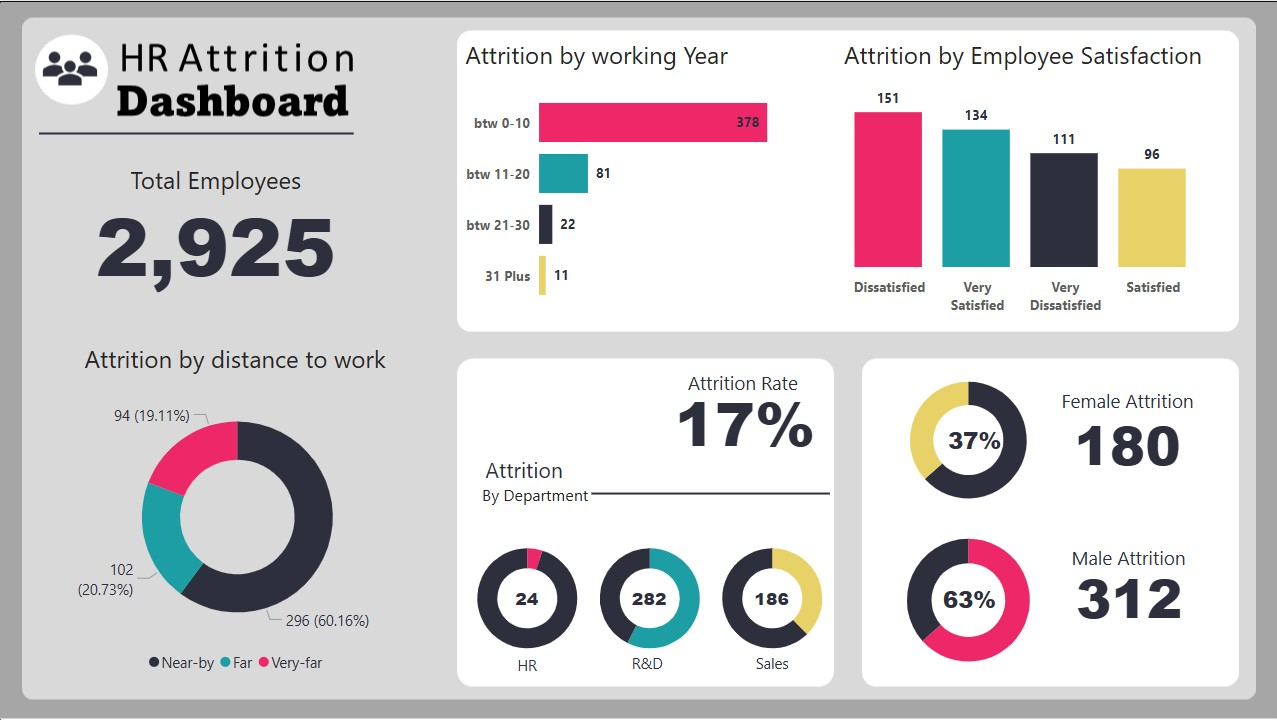

The dashboard page shown, as its layout file describes it:
{"tool":"powerbi","page":{"name":"Page 1","canvas":[1280,720],"ordinal":0},"visuals":[{"type":"card","fields":{"Values":["All Measures.Total Empoyees"]},"box":[83.7,182.7,266.4,114.2],"z":0},{"type":"donutChart","fields":{"Category":["Data.Distance Status"],"Y":["All Measures.Total Attrition"]},"box":[40.6,383.1,397.1,298.1],"z":1000},{"type":"barChart","fields":{"Y":["All Measures.Total Attrition"],"Category":["Data.Working Years Group"]},"box":[461.8,68.5,341.2,252.4],"z":2000},{"type":"columnChart","fields":{"Y":["All Measures.Total Attrition"],"Category":["Data.Job Satisfaction Status"]},"box":[803,68.5,427.5,252.4],"z":3000},{"type":"card","fields":{"Values":["All Measures.% Attrition"]},"box":[660.9,375.5,170,88.8],"z":4000},{"type":"donutChart","fields":{"Y":["All Measures.HR Department","All Measures.Remain HR"]},"box":[449.6,530.3,157,135],"z":5000},{"type":"donutChart","fields":{"Y":["All Measures.R&D Department","All Measures.Remain R&D"]},"box":[572,530.3,157,135],"z":6000},{"type":"donutChart","fields":{"Y":["All Measures.Sales Department","All Measures.Remain Sales"]},"box":[694.4,530.3,157,135],"z":7000},{"type":"donutChart","fields":{"Category":["Data.Gender"],"Y":["All Measures.Total Attrition"]},"box":[872.8,361.5,194.1,156],"z":8000},{"type":"donutChart","fields":{"Category":["Data.Gender"],"Y":["All Measures.Total Attrition"]},"box":[872.8,517.6,194.1,163.6],"z":9000},{"type":"textbox","box":[83.7,157.3,266.4,49.5],"z":10000},{"type":"textbox","box":[35.5,336.2,402.1,49.5],"z":11000},{"type":"textbox","box":[461.8,33,341.2,49.5],"z":12000},{"type":"textbox","box":[839.8,33,390.7,49.5],"z":13000},{"type":"textbox","box":[683.8,364.1,147.2,44.4],"z":14000},{"type":"card","fields":{"Values":["All Measures.HR Department"]},"box":[500.8,578.5,53.3,40.6],"z":15000},{"type":"card","fields":{"Values":["All Measures.R&D Department"]},"box":[623.9,578.5,53.3,40.6],"z":16000},{"type":"card","fields":{"Values":["All Measures.Sales Department"]},"box":[745.7,578.5,53.3,40.6],"z":17000},{"type":"textbox","box":[482.1,649.3,91.3,34.3],"z":18000},{"type":"textbox","box":[602.6,648,91.3,34.3],"z":19000},{"type":"textbox","box":[726.9,648,91.3,34.3],"z":20000},{"type":"textbox","box":[461.8,477,149.7,34.3],"z":21000},{"type":"textbox","box":[480.8,449.1,147.2,44.4],"z":22000},{"type":"shape","box":[592.4,489.7,238.5,5.1],"z":23000},{"type":"card","fields":{"Values":["All Measures.% Female Attrition"]},"box":[938.8,412.3,73.6,57.1],"z":24000},{"type":"card","fields":{"Values":["All Measures.% Male Attrition"]},"box":[938.8,572.1,63.4,54.5],"z":25000},{"type":"textbox","box":[1057.5,382.5,172.5,45],"z":26000},{"type":"textbox","box":[1066.9,539.1,147.2,41.9],"z":27000},{"type":"card","fields":{"Values":["All Measures.Total Attrition"]},"box":[1052.5,412.5,152.5,58.8],"z":28000},{"type":"card","fields":{"Values":["All Measures.Total Attrition"]},"box":[1056.7,560.7,148.4,66],"z":29000}]}

Visuals, with their boxes in screenshot pixels (x1, y1, x2, y2), scaled from the page's 1280x720 canvas onto the 1277x720 screenshot:
card - All Measures.Total Empoyees: (84, 183, 349, 297)
donutChart - Data.Distance Status x All Measures.Total Attrition: (41, 383, 437, 681)
barChart - All Measures.Total Attrition x Data.Working Years Group: (461, 68, 801, 321)
columnChart - All Measures.Total Attrition x Data.Job Satisfaction Status: (801, 68, 1228, 321)
card - All Measures.% Attrition: (659, 376, 829, 464)
donutChart - All Measures.HR Department x All Measures.Remain HR: (449, 530, 605, 665)
donutChart - All Measures.R&D Department x All Measures.Remain R&D: (571, 530, 727, 665)
donutChart - All Measures.Sales Department x All Measures.Remain Sales: (693, 530, 849, 665)
donutChart - Data.Gender x All Measures.Total Attrition: (871, 362, 1064, 518)
donutChart - Data.Gender x All Measures.Total Attrition: (871, 518, 1064, 681)
textbox: (84, 157, 349, 207)
textbox: (35, 336, 437, 386)
textbox: (461, 33, 801, 82)
textbox: (838, 33, 1228, 82)
textbox: (682, 364, 829, 408)
card - All Measures.HR Department: (500, 578, 553, 619)
card - All Measures.R&D Department: (622, 578, 676, 619)
card - All Measures.Sales Department: (744, 578, 797, 619)
textbox: (481, 649, 572, 684)
textbox: (601, 648, 692, 682)
textbox: (725, 648, 816, 682)
textbox: (461, 477, 610, 511)
textbox: (480, 449, 627, 494)
shape: (591, 490, 829, 495)
card - All Measures.% Female Attrition: (937, 412, 1010, 469)
card - All Measures.% Male Attrition: (937, 572, 1000, 627)
textbox: (1055, 382, 1227, 428)
textbox: (1064, 539, 1211, 581)
card - All Measures.Total Attrition: (1050, 412, 1202, 471)
card - All Measures.Total Attrition: (1054, 561, 1202, 627)
